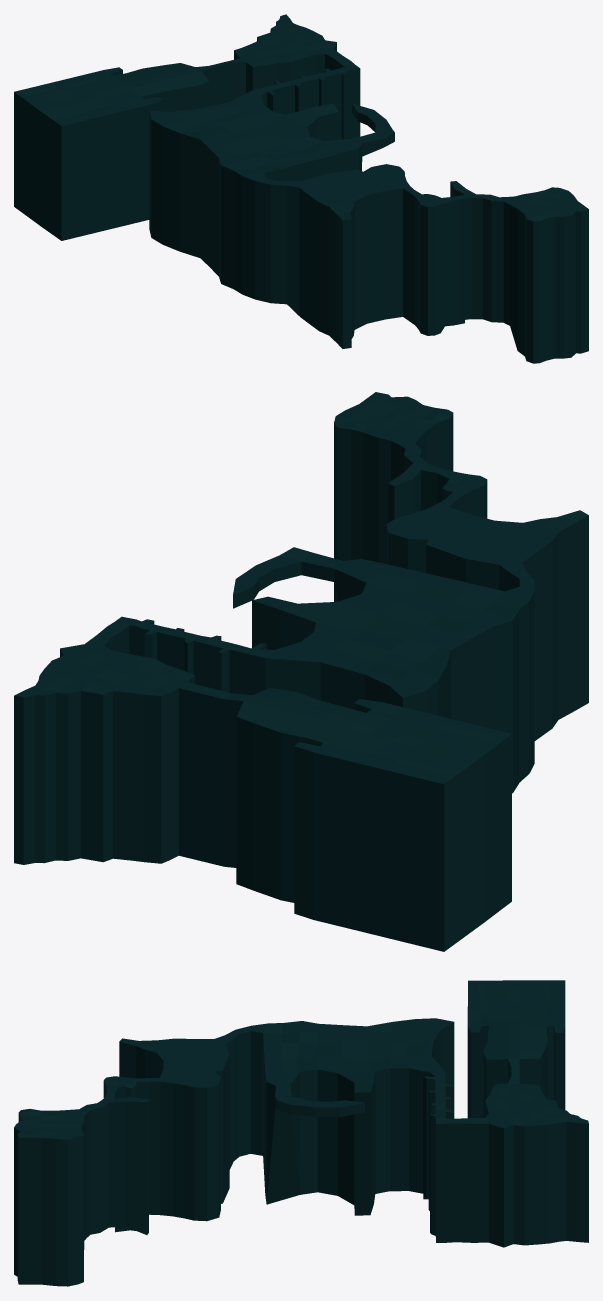
File: map_1.fbx
3 views of the same model, one above another, from view 1: azimuth 30°, elevation 25°; view 2: azimuth 150°, elevation 25°; view 3: azimuth 270°, elevation 25° (orthographic). The views are drawn at different scales.
Visible parts, largest first — view 1: Plane; view 2: Plane; view 3: Plane.
Boxes of the visible parts, left/top/right/bottom form: Plane: left=14, top=14, right=588, bottom=363; Plane: left=14, top=392, right=588, bottom=951; Plane: left=14, top=980, right=588, bottom=1286.
Size of the model in its own units: 24708 by 10823 by 37767.
